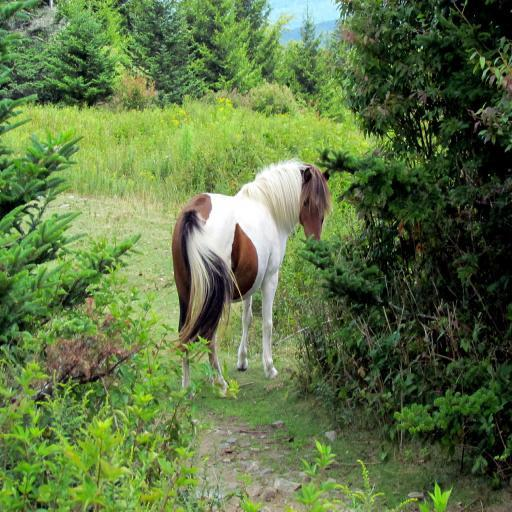Horse: (164, 164, 336, 393)
